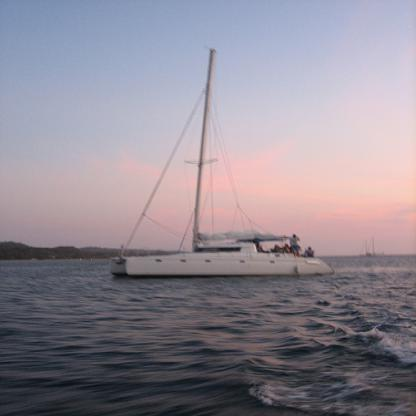boat: (110, 47, 334, 276)
